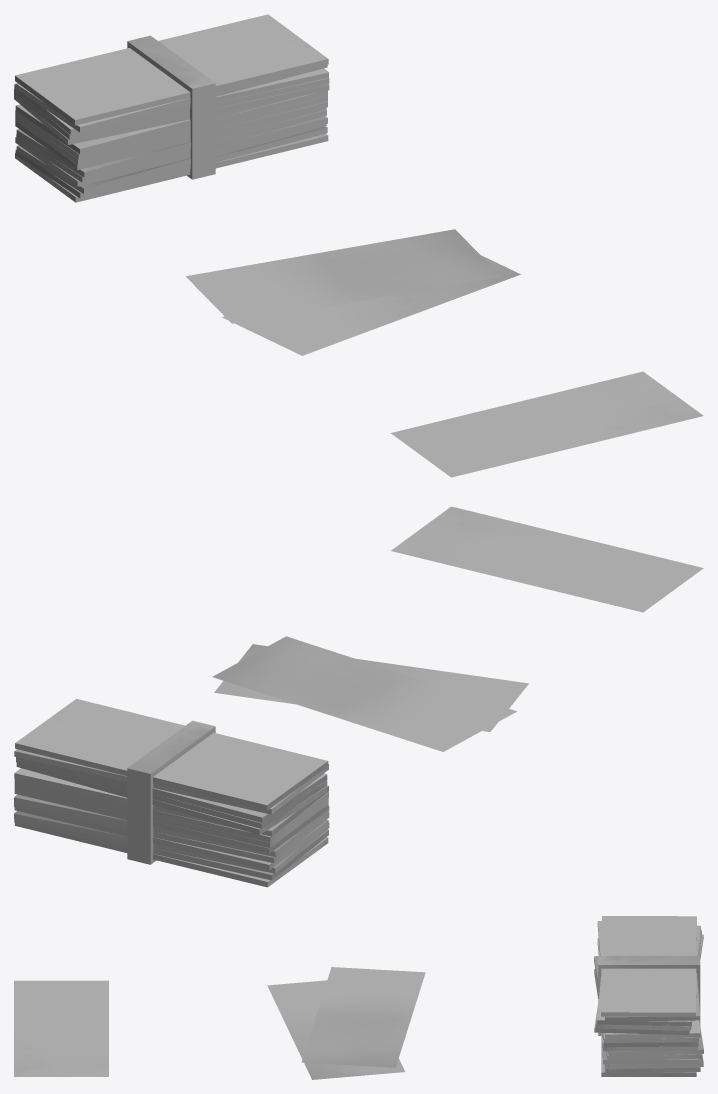
Rendered from money.gltf.
3 views of the same model, one above another, from view 1: azimuth 30°, elevation 25°; view 2: azimuth 150°, elevation 25°; view 3: azimuth 270°, elevation 25° (orthographic). The views are drawn at different scales.
Visible parts, largest first — view 1: Plane.007, Plane.006, Plane.004, Plane.005, Cube.001; view 2: Plane.007, Plane.004, Plane.006, Cube.001, Plane.005; view 3: Plane.007, Plane.006, Plane.004, Plane.005, Cube.001.
Part boxes in pixels (x1,y1,x2,y2): Plane.007: [14, 14, 329, 202]; Plane.006: [186, 229, 500, 323]; Plane.004: [391, 371, 703, 477]; Plane.005: [222, 255, 520, 355]; Cube.001: [127, 35, 215, 179]; Plane.007: [14, 699, 329, 887]; Plane.004: [391, 506, 703, 612]; Plane.006: [212, 636, 516, 751]; Cube.001: [127, 720, 215, 864]; Plane.005: [214, 644, 528, 731]; Plane.007: [594, 916, 703, 1076]; Plane.006: [301, 967, 425, 1067]; Plane.004: [14, 980, 108, 1076]; Plane.005: [267, 980, 404, 1079]; Cube.001: [598, 956, 700, 1035].
Bounding box in the file's own units: 0.1671 × 0.0524 × 0.4609.
